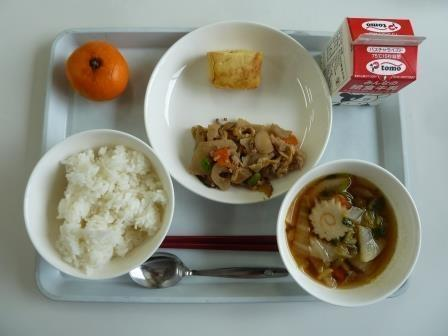Citrus: (57, 37, 132, 105)
Milk: (325, 9, 424, 105)
Rice: (27, 146, 162, 281)
pastry: (202, 37, 267, 105)
vegetable based cooked food: (187, 109, 305, 205)
vegetable soup: (281, 167, 417, 301)
